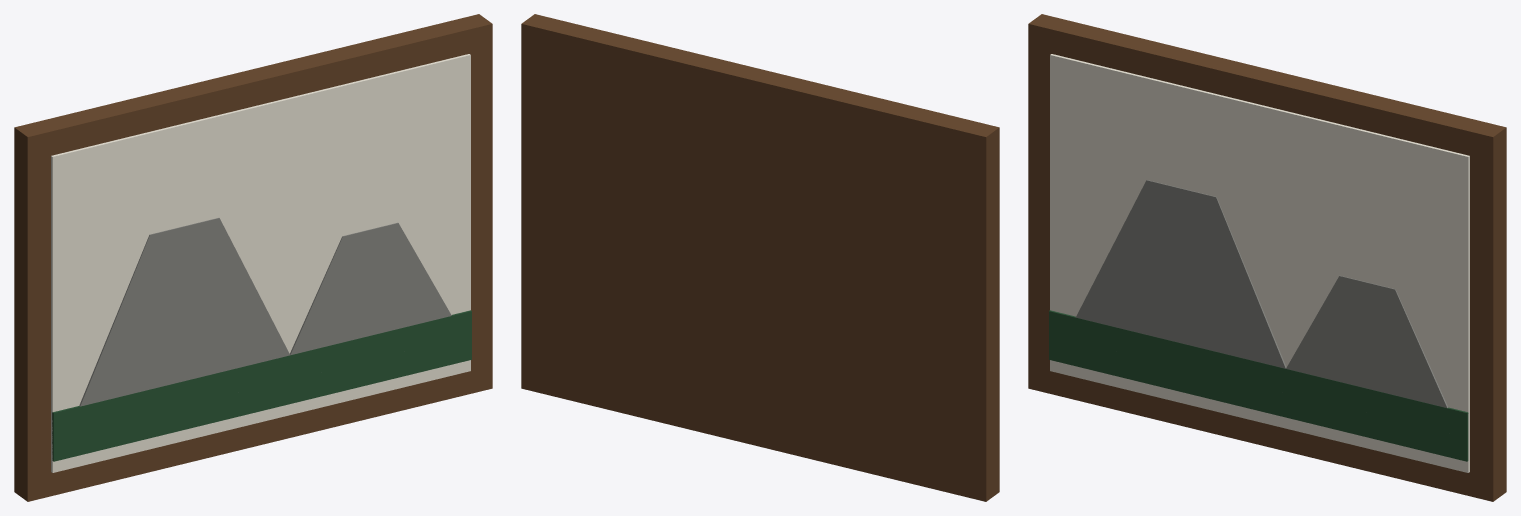
Rendered from GD_Frame_Landscape_02.glb.
The picture shows the model from 3 angles, left to right: view 1: azimuth 30°, elevation 25°; view 2: azimuth 150°, elevation 25°; view 3: azimuth 330°, elevation 25°; orthographic projection.
Parts seen in each view (by area): view 1: GD_Frame_Landscape_02; view 2: GD_Frame_Landscape_02; view 3: GD_Frame_Landscape_02.
Part boxes in pixels (x1,y1,x2,y2): GD_Frame_Landscape_02: [14, 14, 492, 501]; GD_Frame_Landscape_02: [521, 14, 999, 501]; GD_Frame_Landscape_02: [1028, 14, 1506, 501].
Size of the model in its own units: 0.6 by 0.45 by 0.036.
Materials: 1 (1 with a texture image).
